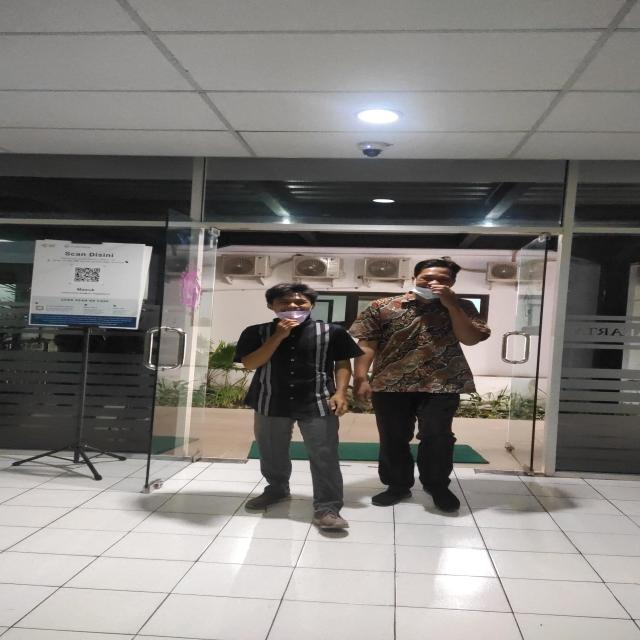hairnet: (262, 281, 321, 327), (409, 256, 461, 300)
